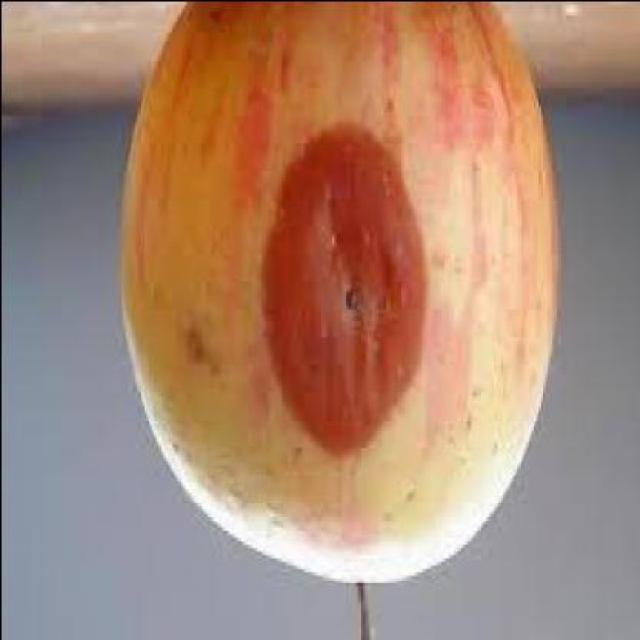BIODEGRADABLE: (120, 3, 562, 585)
